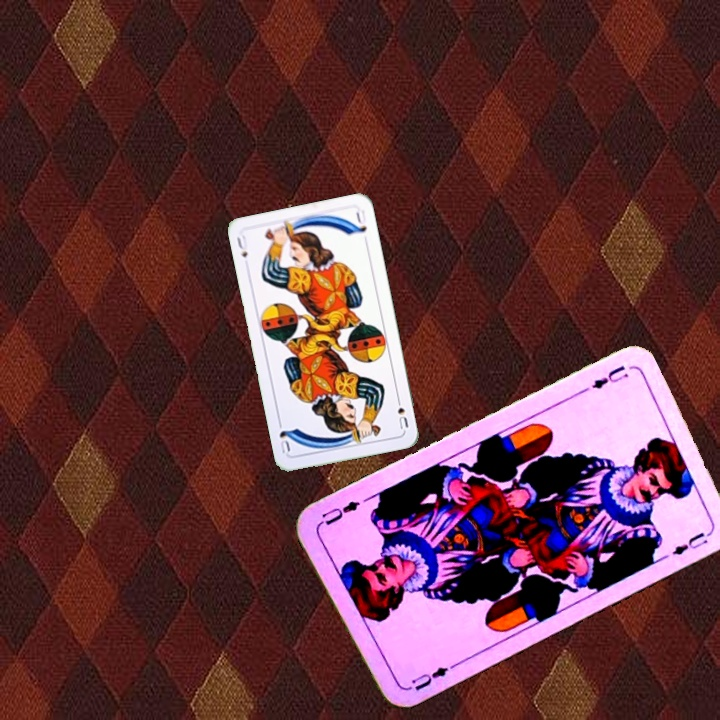EU: (407, 661, 456, 694), (587, 361, 632, 392)
SU: (392, 392, 411, 432), (233, 231, 250, 260)
